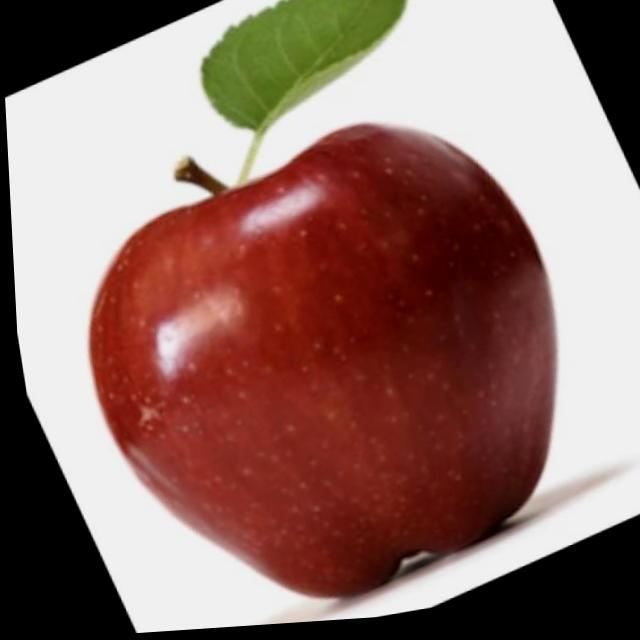Apple: (54, 98, 588, 637)
